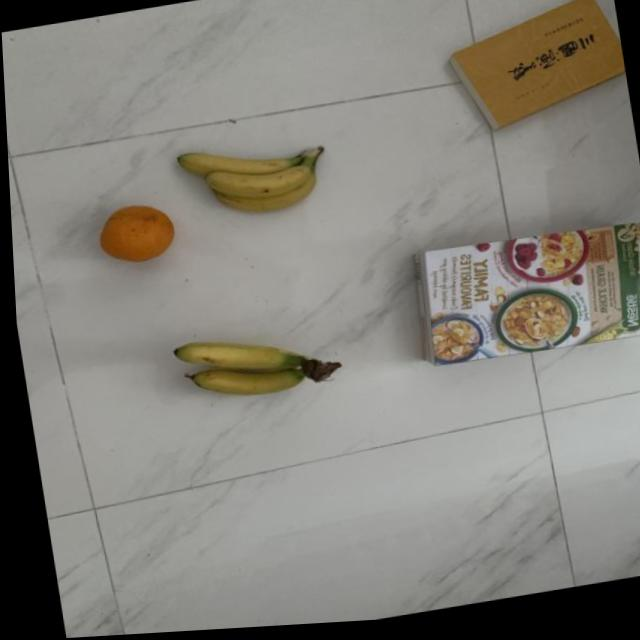Banana: (168, 130, 331, 232), (161, 319, 336, 414)
Book: (435, 0, 630, 144)
Cerealbox: (398, 217, 640, 379)
Orange: (91, 198, 178, 270)
